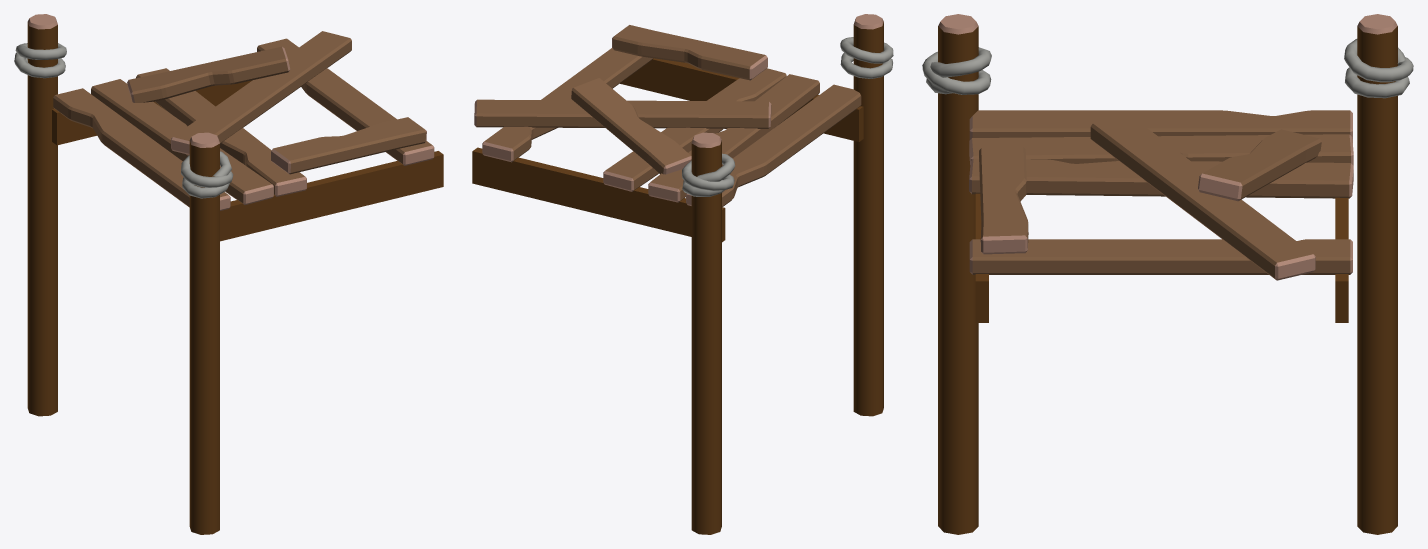
File: environment-dock-broken.glb
3 views of the same model, side by side, from view 1: azimuth 30°, elevation 25°; view 2: azimuth 150°, elevation 25°; view 3: azimuth 270°, elevation 25° (orthographic). The views are drawn at different scales.
Visible parts, largest first — view 1: Environment_Dock_Broken; view 2: Environment_Dock_Broken; view 3: Environment_Dock_Broken.
Part boxes in pixels (bbox=[...]): Environment_Dock_Broken: bbox=[14, 14, 443, 534]; Environment_Dock_Broken: bbox=[472, 14, 893, 534]; Environment_Dock_Broken: bbox=[922, 14, 1413, 534].
Size of the model in its own units: 2.38 by 3.01 by 2.66.
Materials: 1 (1 with a texture image).
